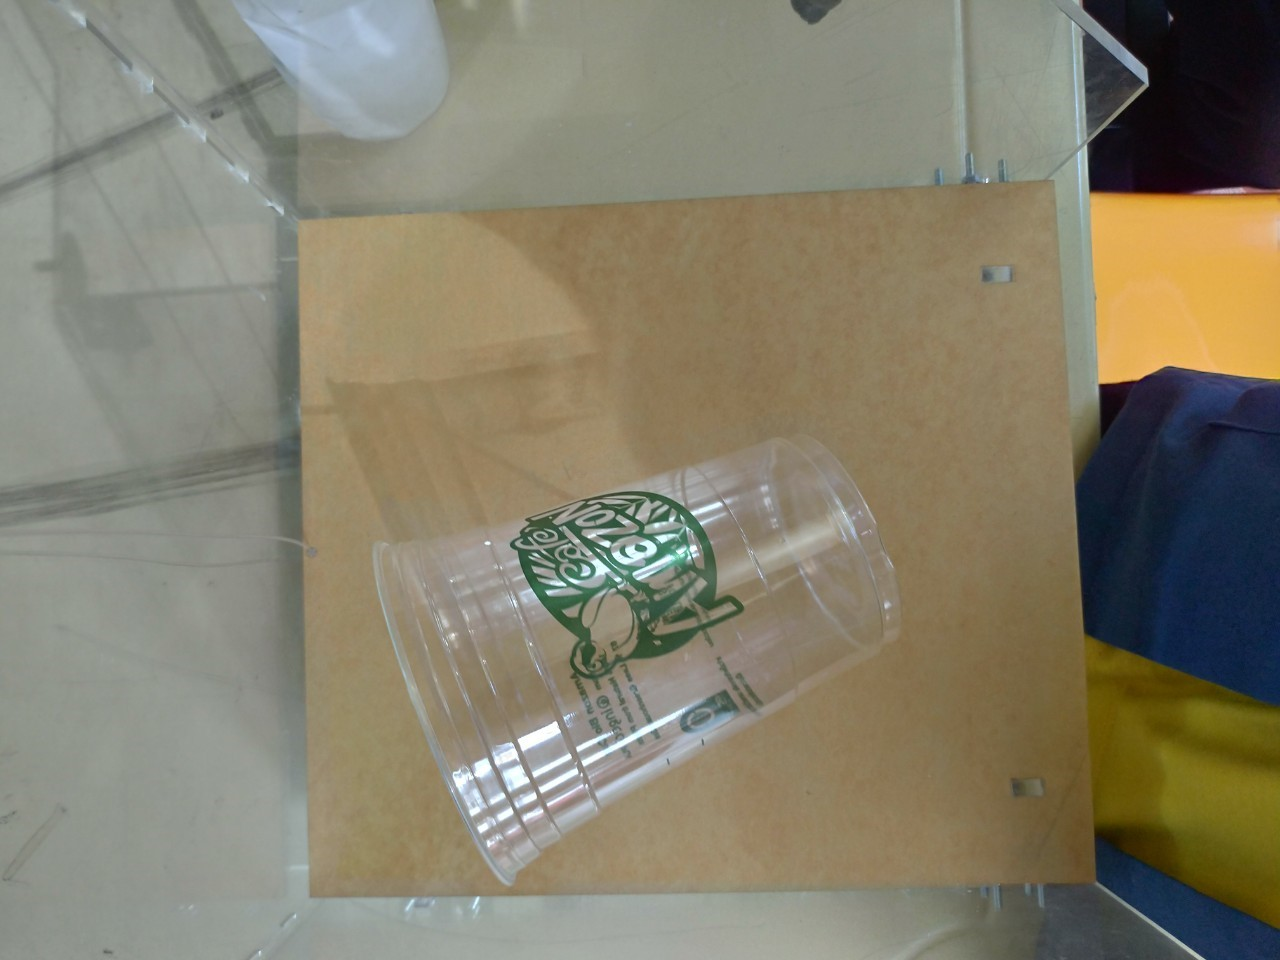PlasticCup: (368, 428, 903, 889)
